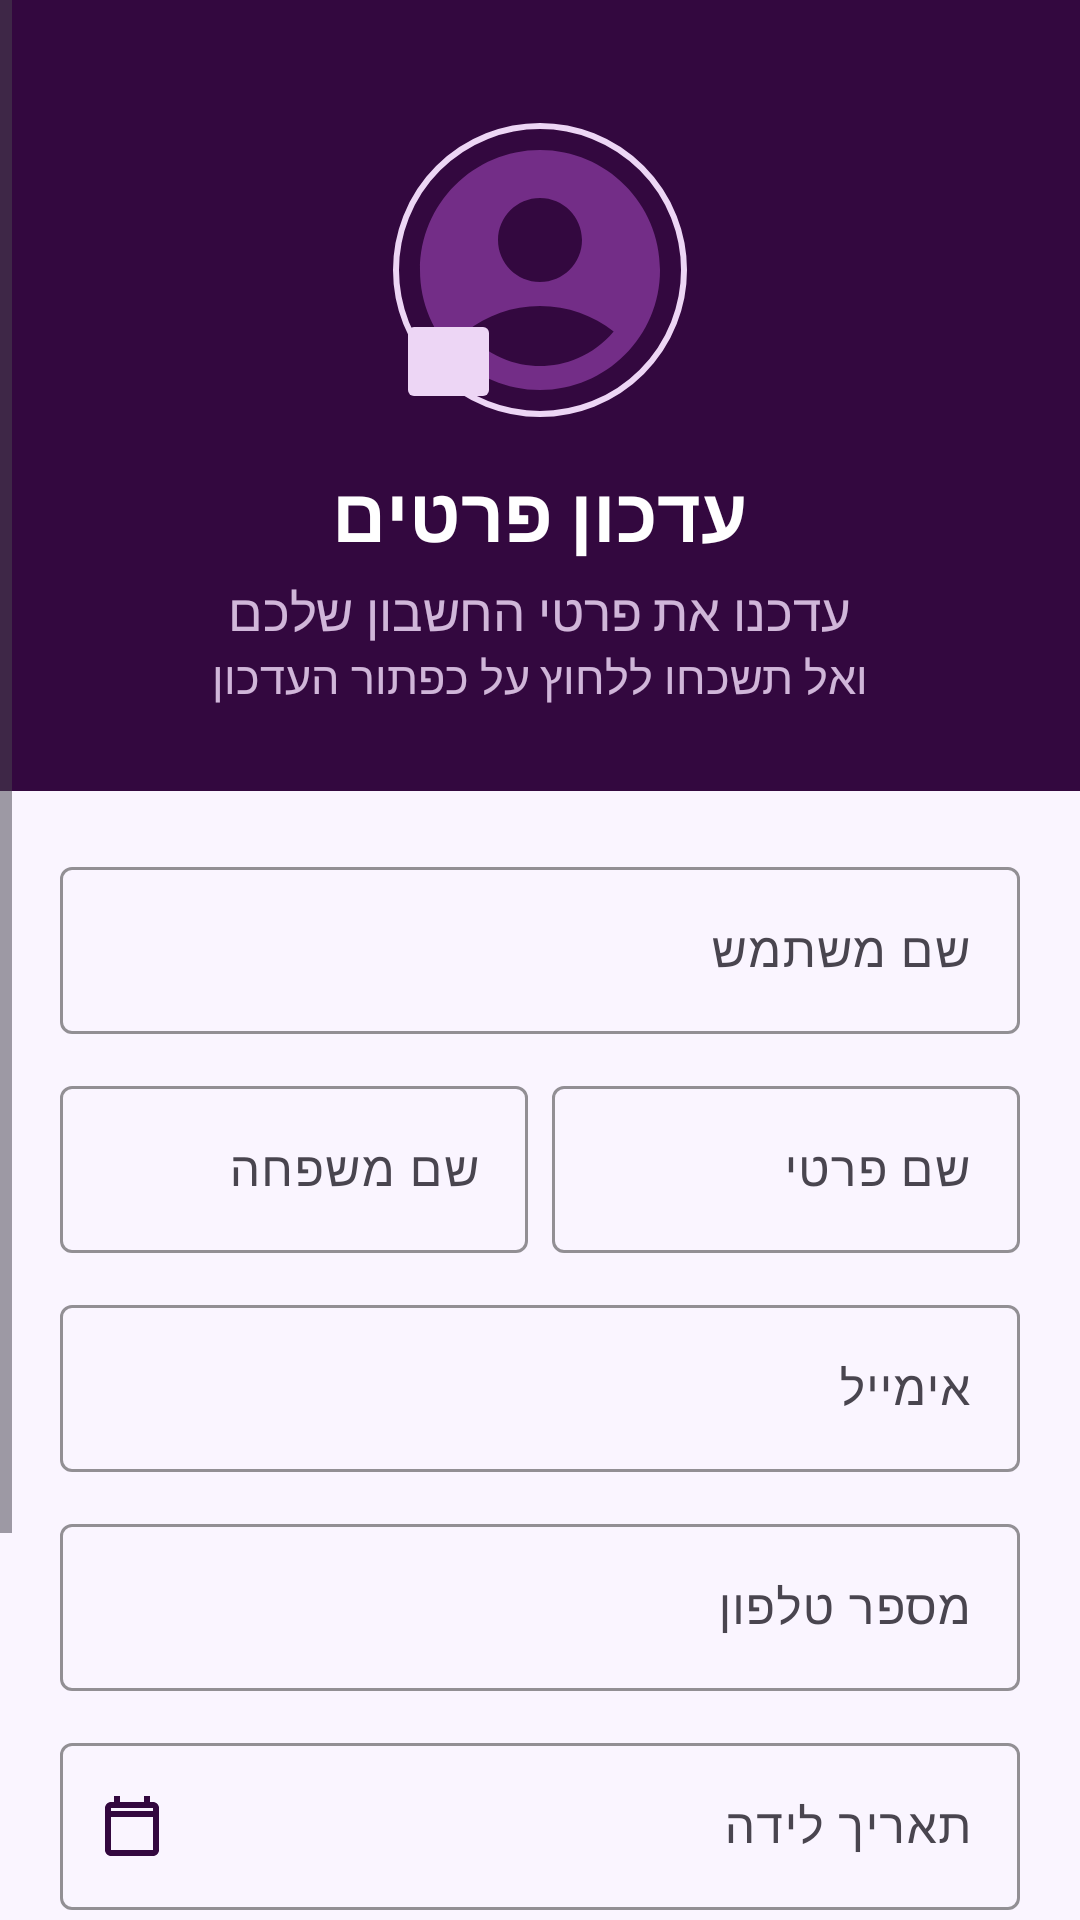

Where icons sit on this 1080 × 1920 app screen, as bbox=(x1, y1, x2, y2):
profile: bbox=(393, 123, 687, 417)
